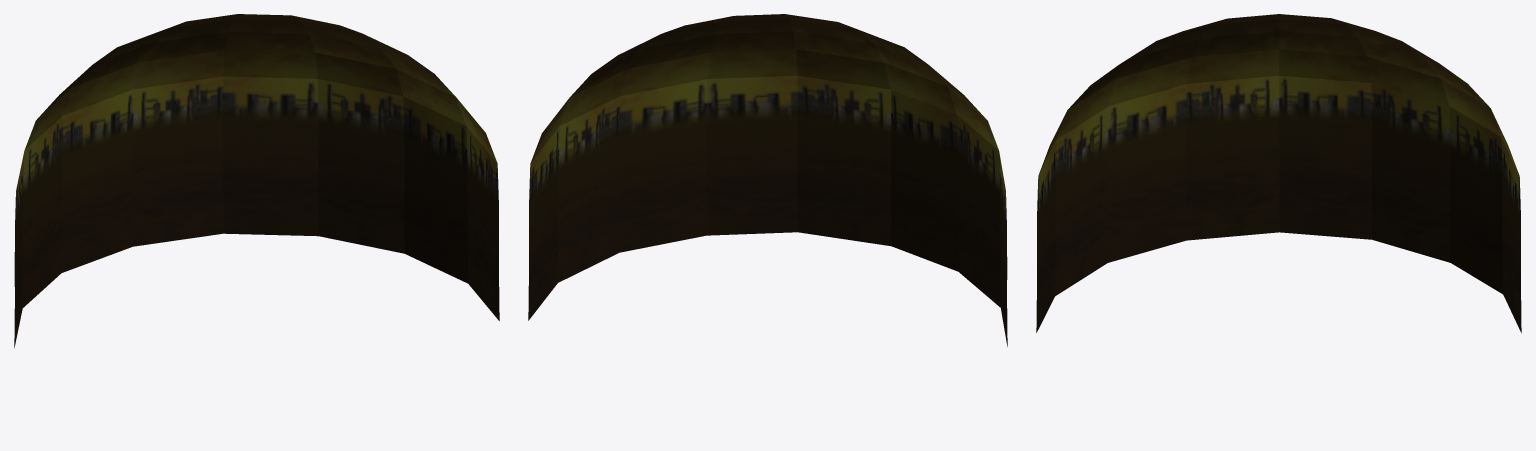
The model's file is Track_12_sky.glb.
3 views of the same model, side by side, from view 1: azimuth 30°, elevation 25°; view 2: azimuth 150°, elevation 25°; view 3: azimuth 270°, elevation 25° (orthographic).
Visible parts, largest first — view 1: Mesh_0; view 2: Mesh_0; view 3: Mesh_0.
Part boxes in pixels (box(x1,y1,x2,y2)): Mesh_0: box(14, 14, 499, 348); Mesh_0: box(528, 14, 1007, 346); Mesh_0: box(1036, 14, 1521, 333).
Bounding box in the file's own units: 366 × 243 × 366.
1 material, 1 textured.
